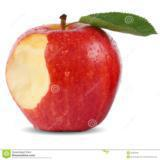apple: (6, 14, 121, 134)
